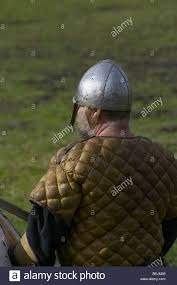person without safety: (9, 55, 176, 267)
